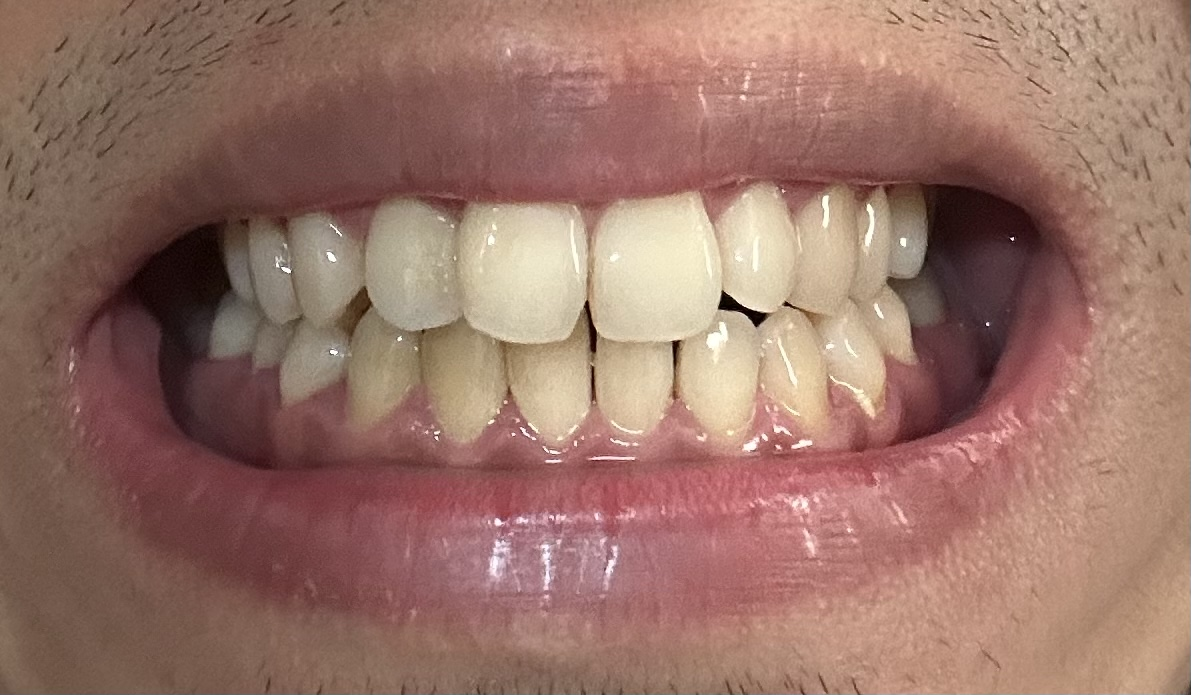teeth: (591, 191, 717, 336), (466, 203, 578, 339), (370, 200, 455, 317), (680, 314, 756, 426), (511, 318, 583, 436), (726, 183, 795, 303), (428, 325, 496, 438), (352, 307, 412, 426), (769, 313, 831, 427), (288, 214, 349, 322), (798, 186, 851, 306), (602, 340, 675, 426), (251, 218, 286, 319), (860, 188, 891, 298)
